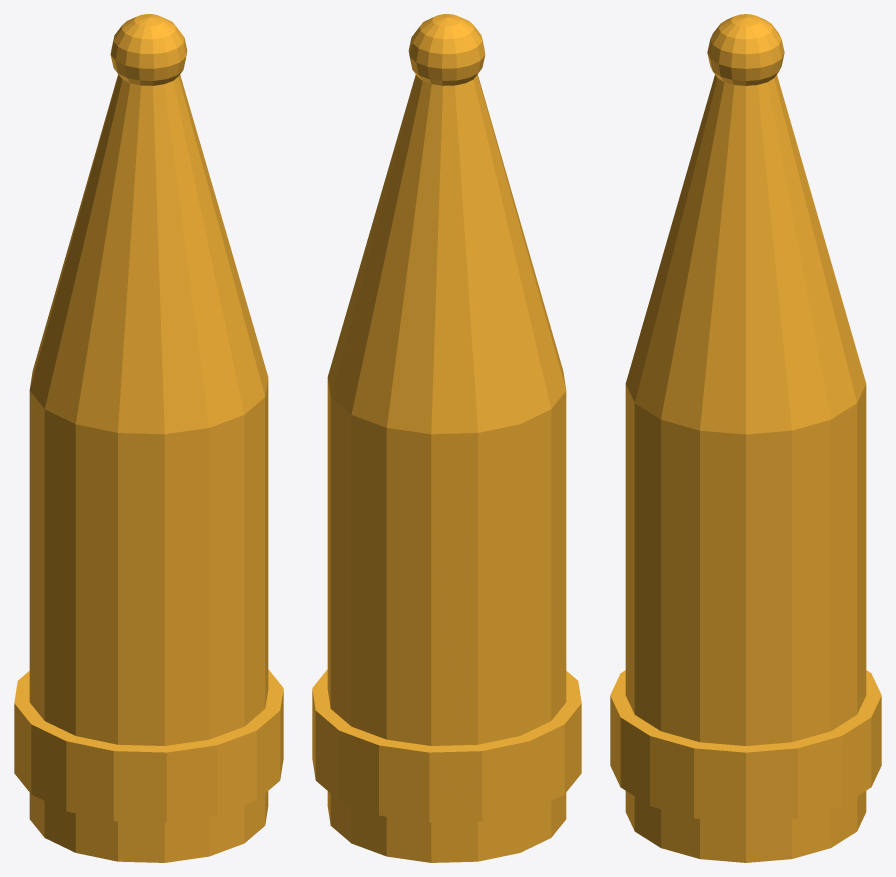
File: bullet.obj
3 views of the same model, side by side, from view 1: azimuth 30°, elevation 25°; view 2: azimuth 150°, elevation 25°; view 3: azimuth 270°, elevation 25° (orthographic).
Visible parts, largest first — view 1: bullet; view 2: bullet; view 3: bullet.
Boxes of the visible parts, left/top/right/bottom form: bullet: left=14, top=14, right=283, bottom=862; bullet: left=312, top=14, right=581, bottom=862; bullet: left=610, top=14, right=881, bottom=862.
Size of the model in its own units: 0.316 by 1.02 by 0.316.
